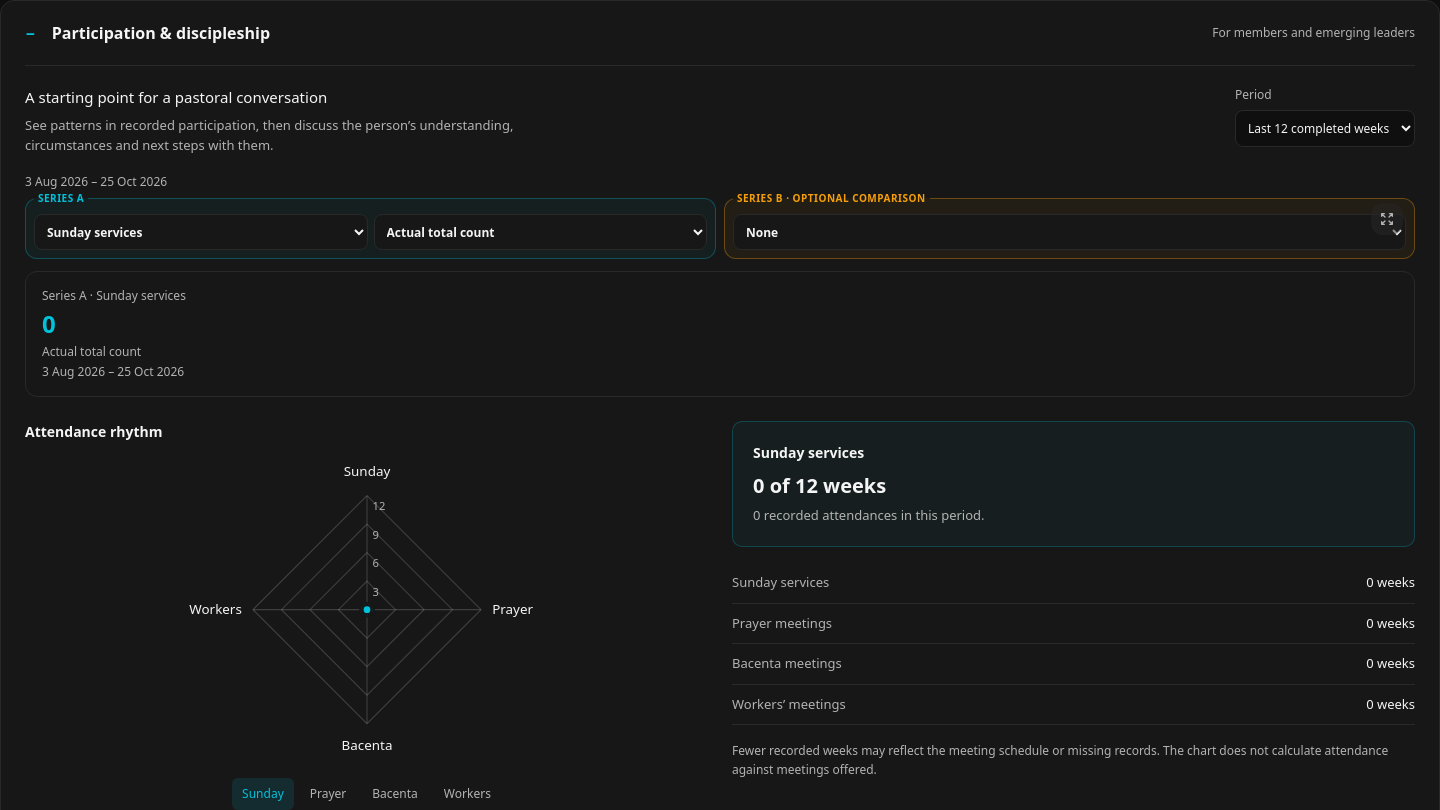
Scenario: participation and leader review › lets an ordinary member profile inspect a category and change the period
This screenshot has width=1440, height=810.
Click the button "Prayer". click: (328, 794)
box: x1=300 y1=778 x2=356 y2=809
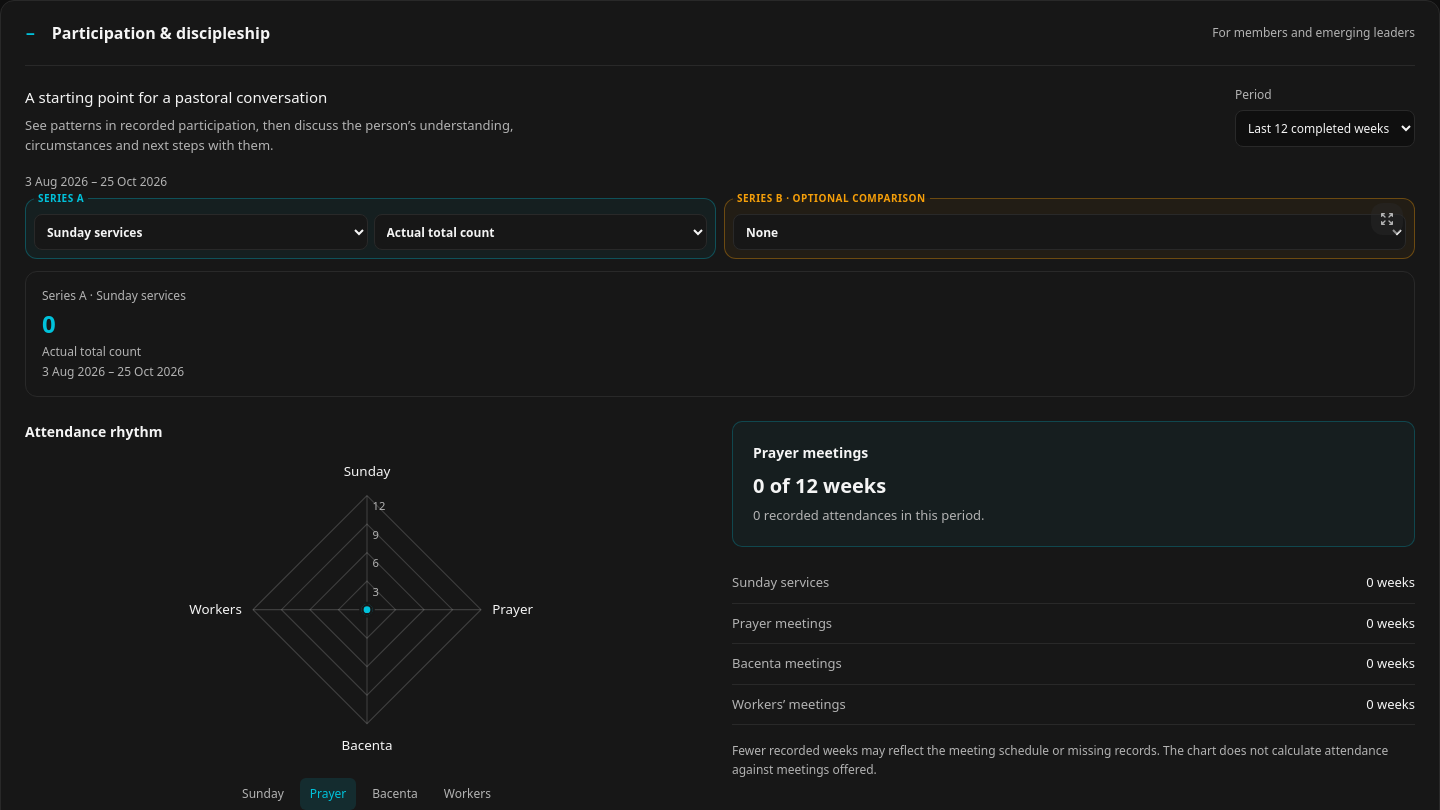
Result: the heading "Prayer meetings" is shown at x1=753 y1=443 x2=868 y2=462
Select "Last 24 completed weeks" in the dropdown labelled "Period". click: (1325, 128)
box: x1=1235 y1=110 x2=1415 y2=147
(page scrolled)
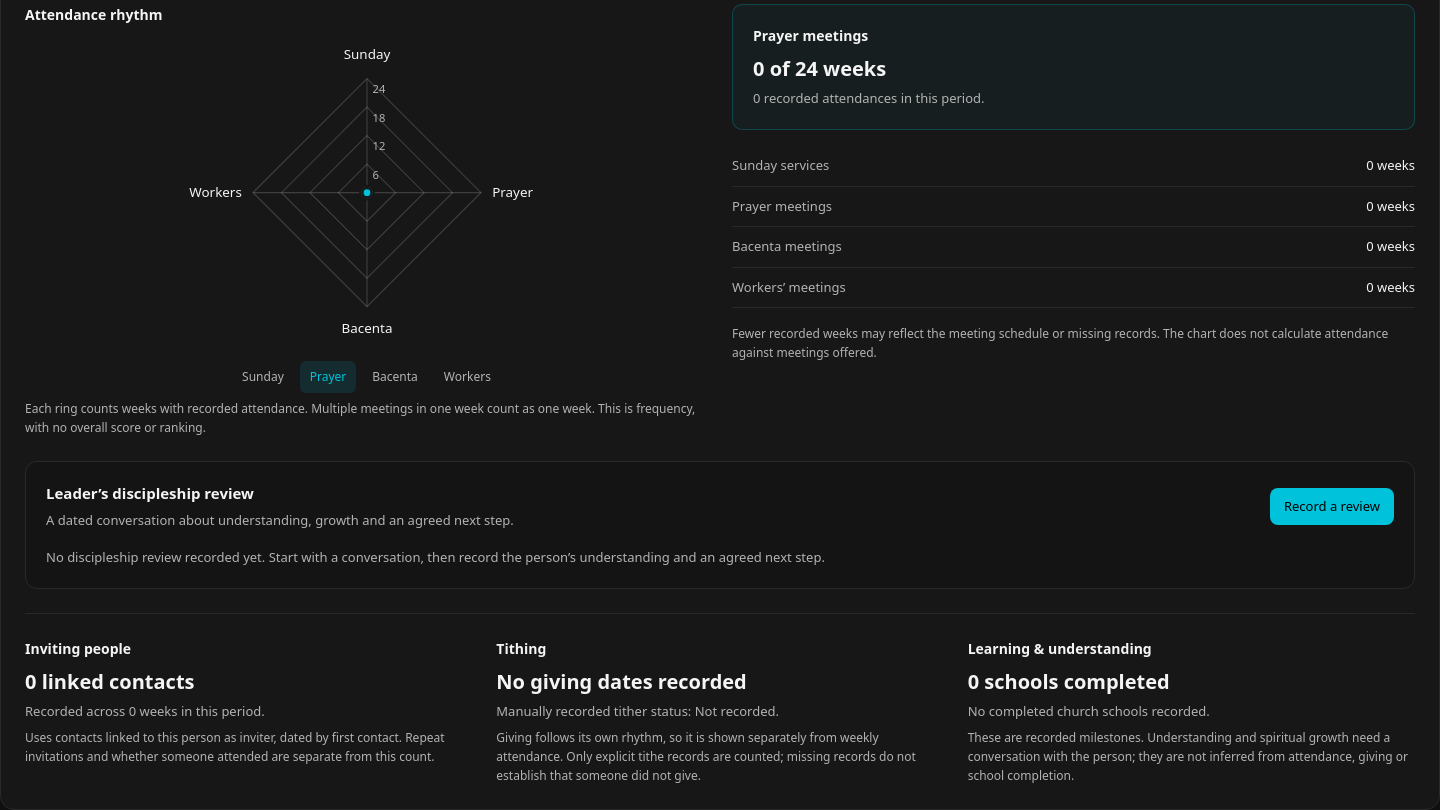
Expected: the button "Record a review" is shown, x1=1270 y1=488 x2=1394 y2=525
Result: the text "0 of 24 weeks" is shown at x1=753 y1=55 x2=886 y2=82
